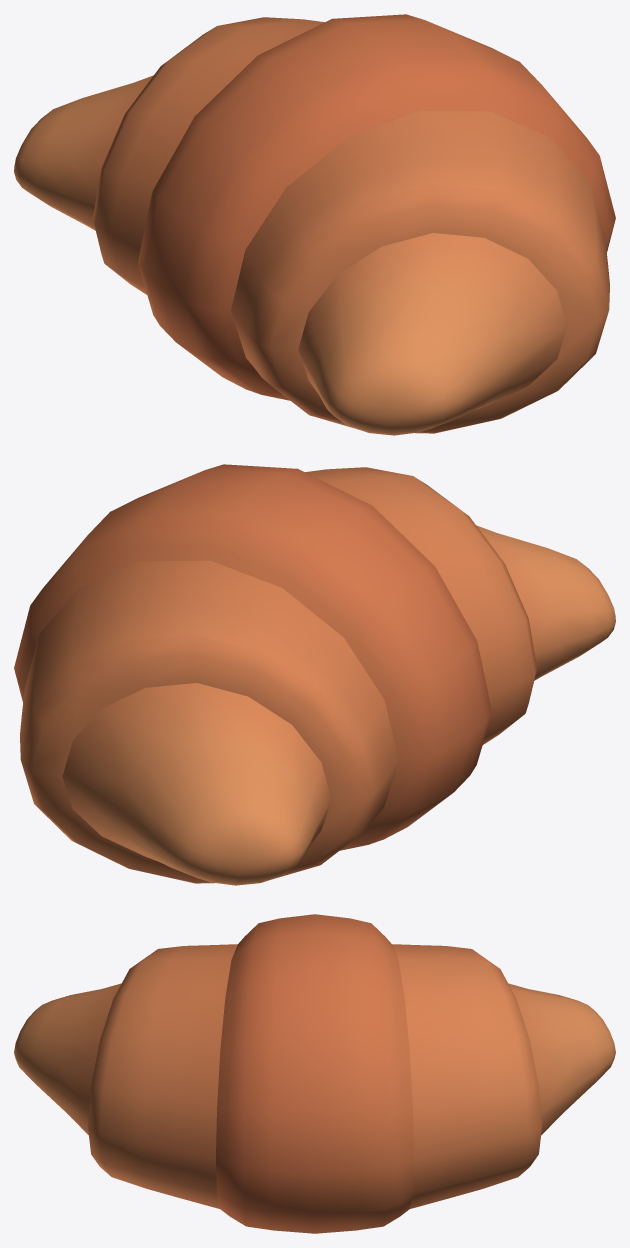
File: Croissant_V1_00.fbx
The picture shows the model from 3 angles, top to bottom: view 1: azimuth 30°, elevation 25°; view 2: azimuth 150°, elevation 25°; view 3: azimuth 270°, elevation 25°; orthographic projection. The views are drawn at different scales.
Parts seen in each view (by area): view 1: Croissant_V1_00; view 2: Croissant_V1_00; view 3: Croissant_V1_00.
Boxes of the visible parts, x1=… form: Croissant_V1_00: x1=14, y1=14, x2=615, y2=435; Croissant_V1_00: x1=14, y1=464, x2=615, y2=885; Croissant_V1_00: x1=14, y1=914, x2=615, y2=1233.
Bounding box in the file's own units: 39.5 × 30.87 × 60.91.
